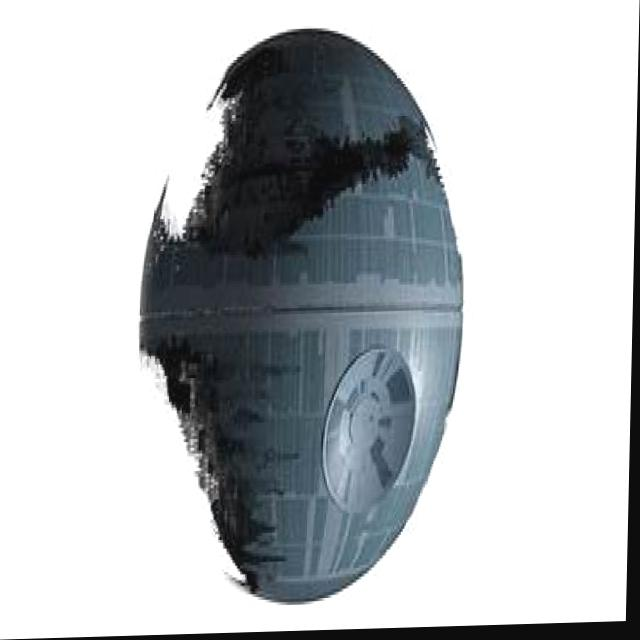deathStar: (133, 30, 469, 615)
